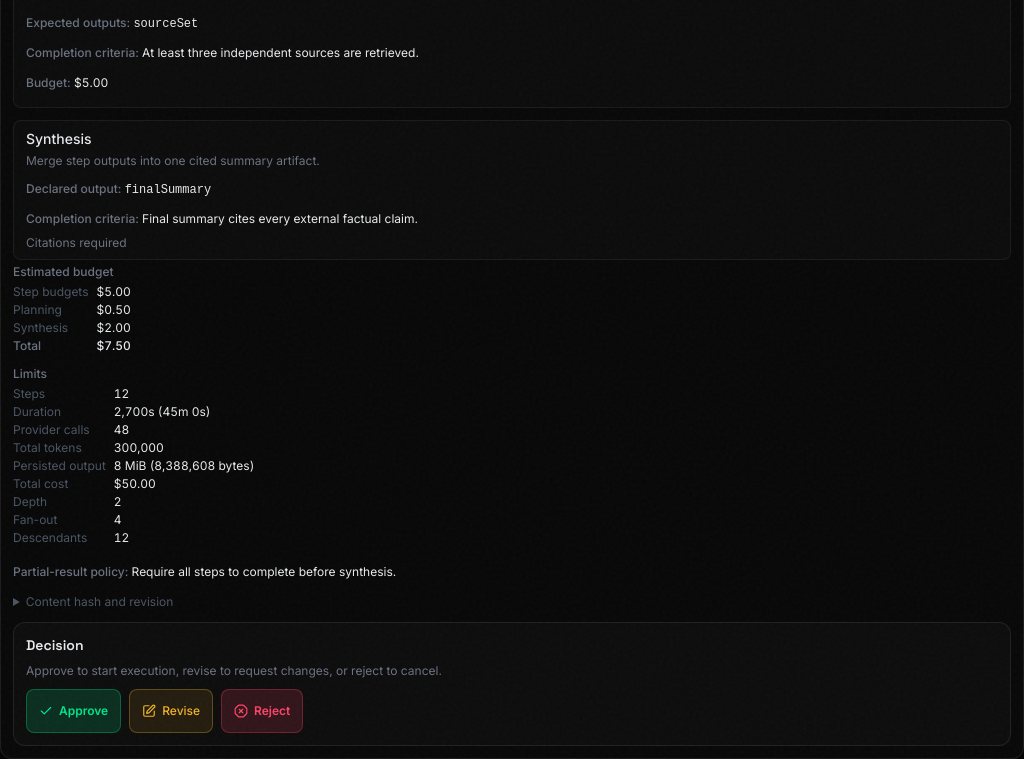
Mission plan decision dialogs › blocks revision request with empty feedback and shows a field-level error
(page scrolled)
Click the button with aria-label "revise plan revision 1": [171, 711] box [129,689,213,733]
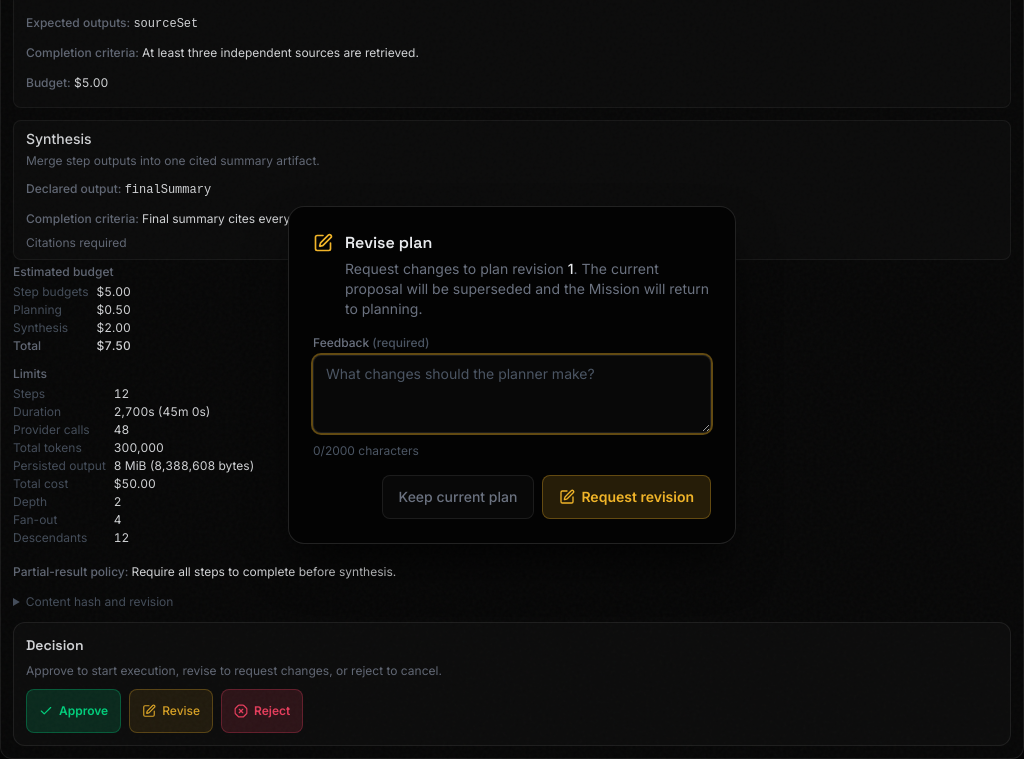
Click the button "Request revision": [627, 497] box [542,475,711,519]
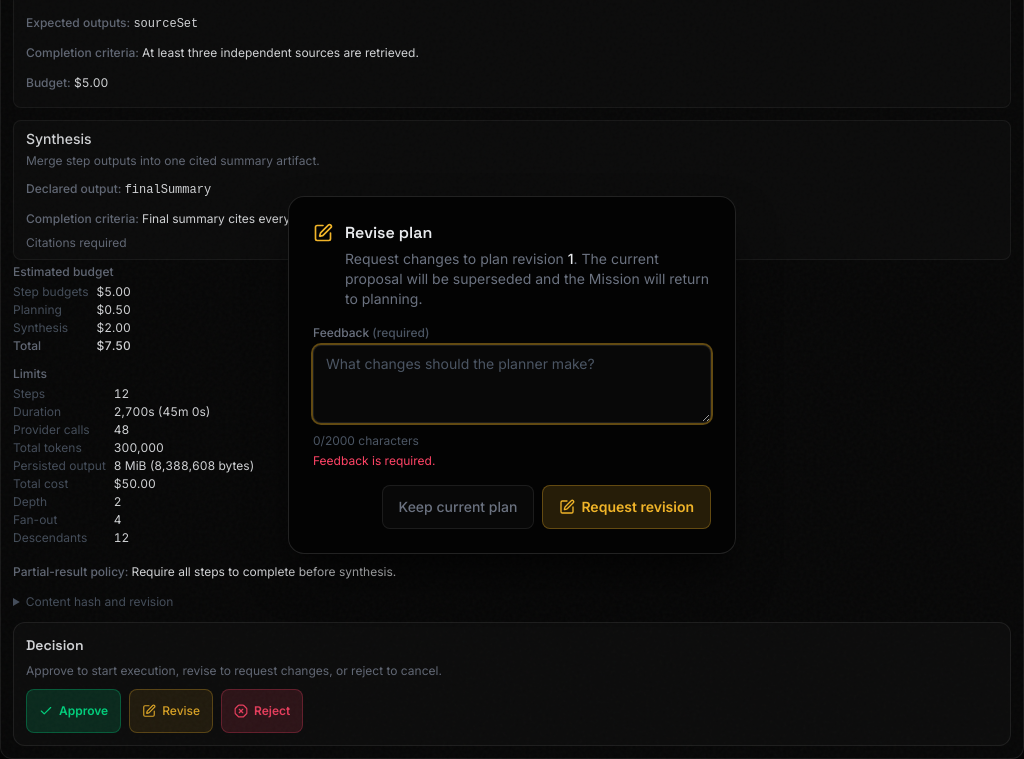
Now the message shows "Feedback is required", box [313,453,435,468]
